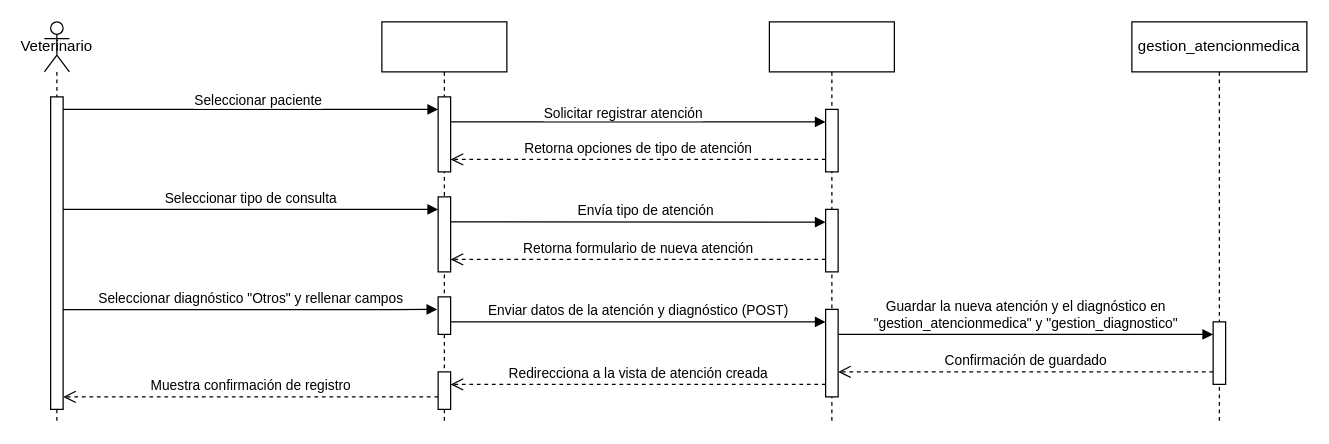
This 1329x444 diagram has some shape labels left out. Here are the shapes that lost their labels. From the top down, the centre of each, then its label:
the point at 444,221: V_Paciente
the point at 831,221: C_Atencion
